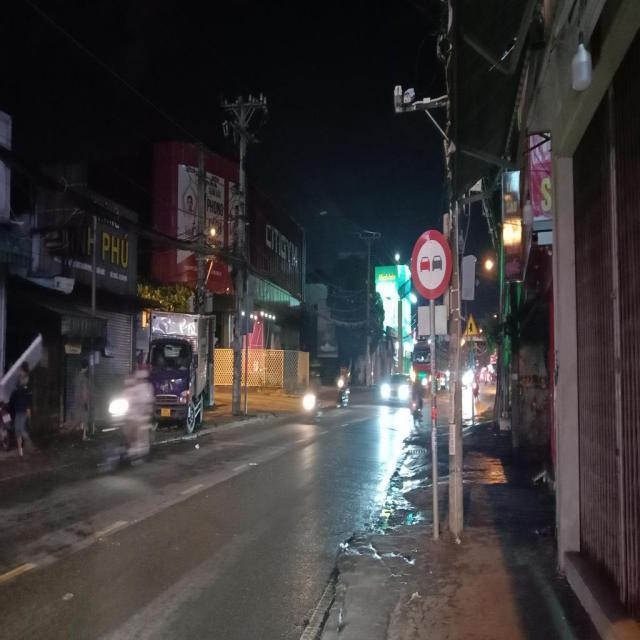125-cam-vuot: (410, 229, 454, 301)
